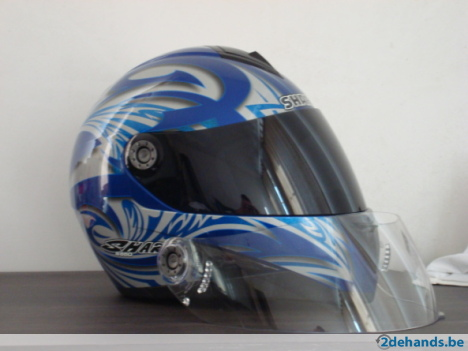helmet: (72, 55, 394, 310)
